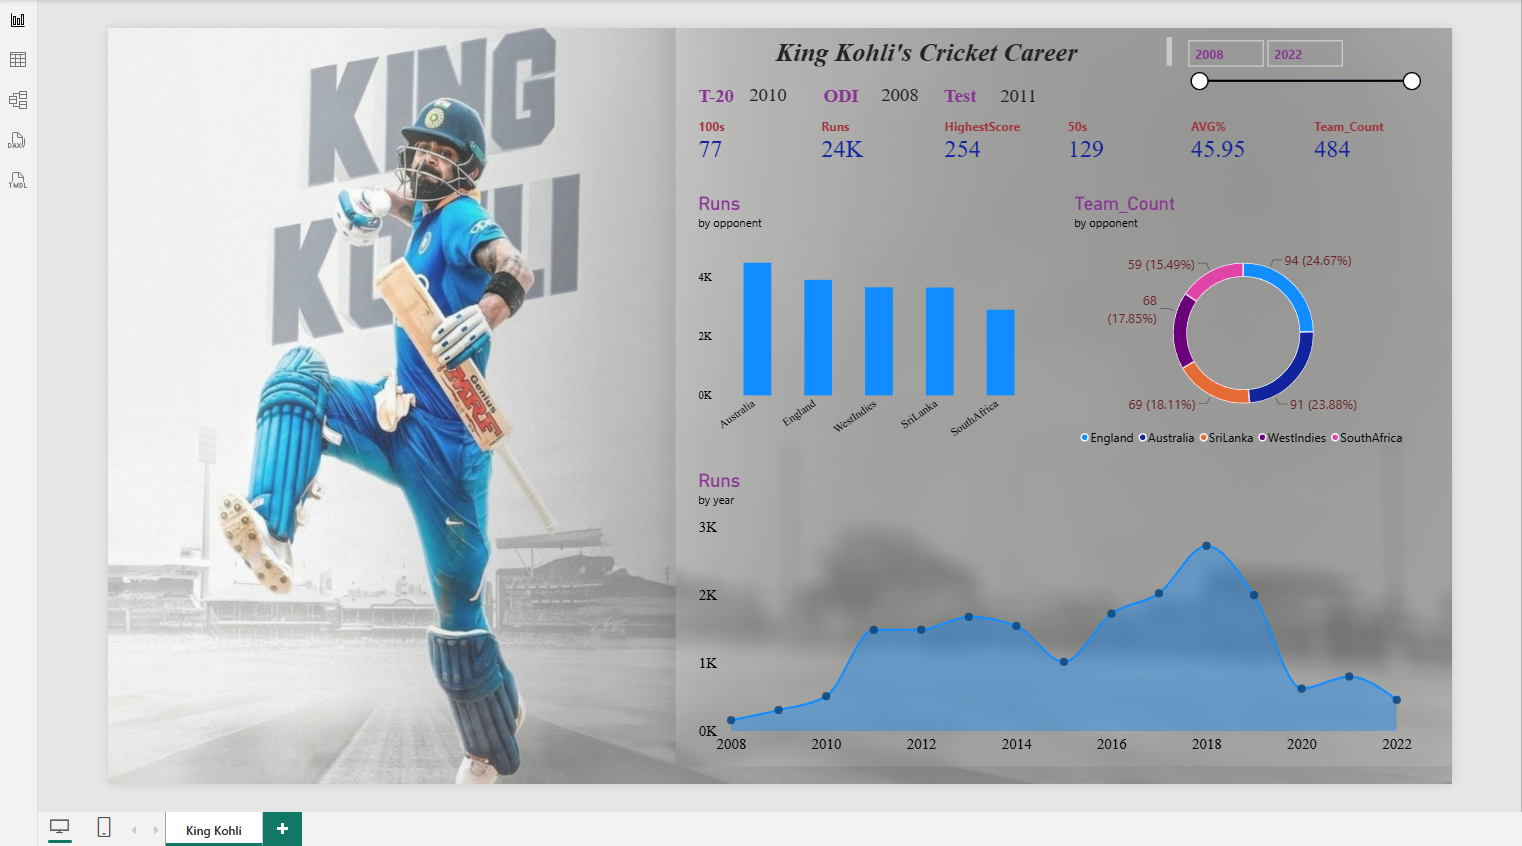

The page's visual inventory and layout, read from the dashboard file:
{"tool":"powerbi","page":{"name":"King Kohli","canvas":[1920,1080],"ordinal":0},"visuals":[{"type":"cardVisual","fields":{"Data":["Measures_Table.100s","Measures_Table.Runs","Measures_Table.HighestScore","Measures_Table.50s","Measures_Table.AVG%","Measures_Table.Team_Count"]},"box":[827.2,115.3,1051.9,90.5],"z":0},{"type":"clusteredColumnChart","fields":{"Category":["Virat_Kohli.opponent"],"Y":["Measures_Table.Runs"]},"box":[827.2,221.8,522.3,395.4],"z":1000},{"type":"donutChart","fields":{"Category":["Virat_Kohli.opponent"],"Y":["Measures_Table.Team_Count"]},"box":[1364.1,221.8,515,395.4],"z":2000},{"type":"areaChart","fields":{"Category":["Calender.year"],"Y":["Measures_Table.Runs"]},"box":[827.2,617.1,1051.9,436.2],"z":3000},{"type":"slicer","fields":{"Values":["Calender.year"]},"box":[1536.3,13.1,342.9,102.1],"z":4000},{"type":"cardVisual","fields":{"Data":["Calender.T_20_First_Match"]},"box":[900.2,52.5,90.5,86.1],"z":5000},{"type":"shape","box":[827.2,71.5,83.2,51.1],"z":6000},{"type":"cardVisual","fields":{"Data":["Calender.ODI_First_Match"]},"box":[1088.4,55.4,87.5,80.2],"z":7000},{"type":"shape","box":[1005.2,71.5,83.2,51.1],"z":7001},{"type":"shape","box":[1175.9,71.5,83.2,51.1],"z":7002},{"type":"cardVisual","fields":{"Data":["Calender.Test_First_Match"]},"box":[1259.1,64.2,109.4,64.2],"z":7003},{"type":"textbox","box":[827.2,13.1,693,42.3],"z":7004}]}

Visuals, with their boxes on the page's 1920x1080 design canvas (x1, y1, x2, y2). These are canvas units, not pixel positions in the 1522x846 screenshot, which may show the page scaled, cropped or inside an application window:
cardVisual - Measures_Table.100s x Measures_Table.Runs: [827, 115, 1879, 206]
clusteredColumnChart - Virat_Kohli.opponent x Measures_Table.Runs: [827, 222, 1350, 617]
donutChart - Virat_Kohli.opponent x Measures_Table.Team_Count: [1364, 222, 1879, 617]
areaChart - Calender.year x Measures_Table.Runs: [827, 617, 1879, 1053]
slicer - Calender.year: [1536, 13, 1879, 115]
cardVisual - Calender.T_20_First_Match: [900, 52, 991, 139]
shape: [827, 72, 910, 123]
cardVisual - Calender.ODI_First_Match: [1088, 55, 1176, 136]
shape: [1005, 72, 1088, 123]
shape: [1176, 72, 1259, 123]
cardVisual - Calender.Test_First_Match: [1259, 64, 1368, 128]
textbox: [827, 13, 1520, 55]
